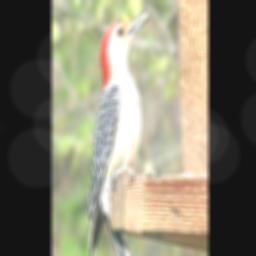Woodpecker: (89, 8, 152, 256)
